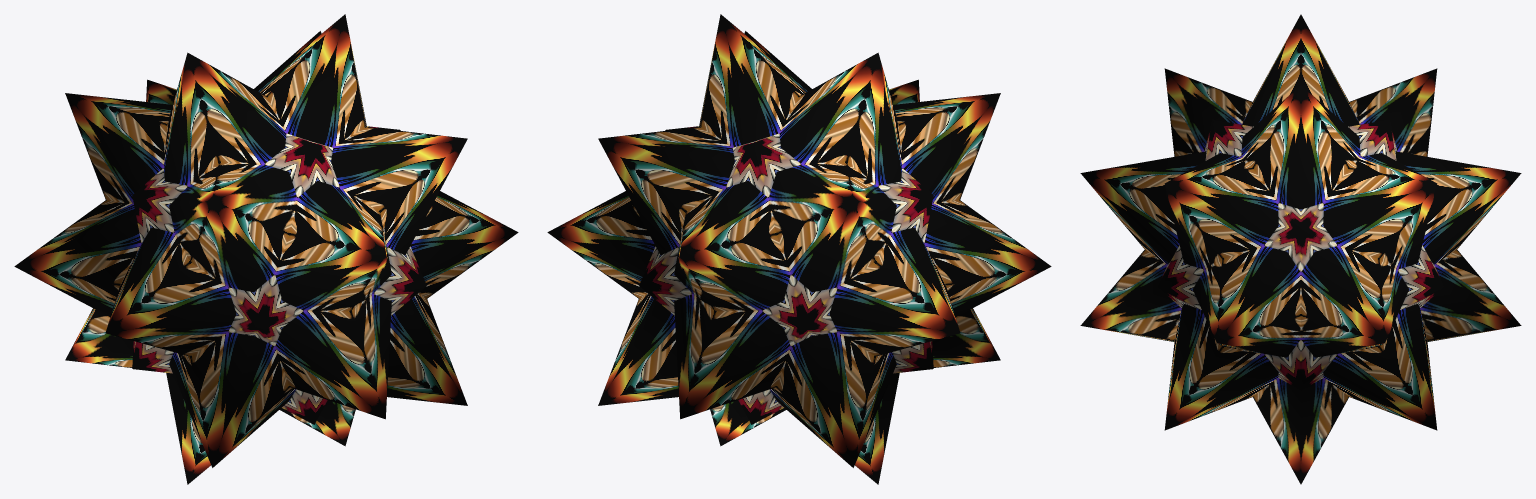
Rendered from GreatIcosacronicHexecontahedron12.gltf.
3 renders of one model, left to right at view 1: azimuth 30°, elevation 25°; view 2: azimuth 150°, elevation 25°; view 3: azimuth 270°, elevation 25°, orthographic. The views are drawn at different scales.
Visible parts, largest first — view 1: GreatIcosacronicHexecontahedron12; view 2: GreatIcosacronicHexecontahedron12; view 3: GreatIcosacronicHexecontahedron12.
Part boxes in pixels (x1,y1,x2,y2): GreatIcosacronicHexecontahedron12: (14, 14, 518, 484); GreatIcosacronicHexecontahedron12: (547, 14, 1051, 484); GreatIcosacronicHexecontahedron12: (1080, 14, 1521, 484).
Bounding box in the file's own units: 3.62 × 3.62 × 3.62.
1 material, 1 textured.
